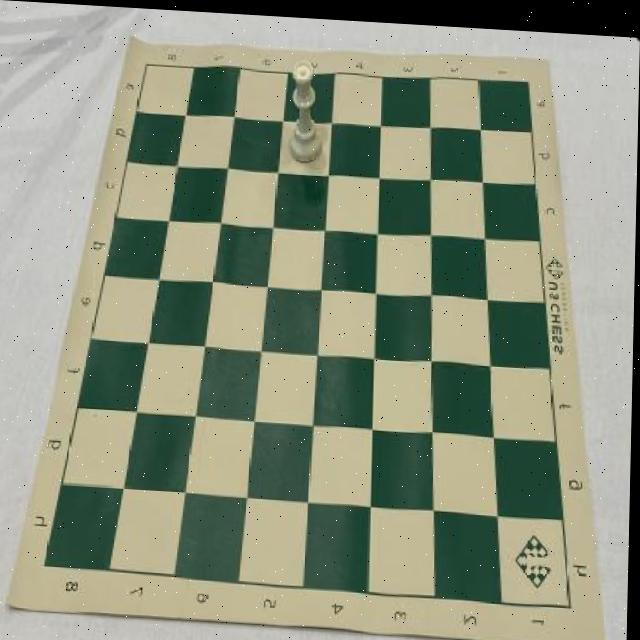white-pawn: (289, 55, 326, 161)
